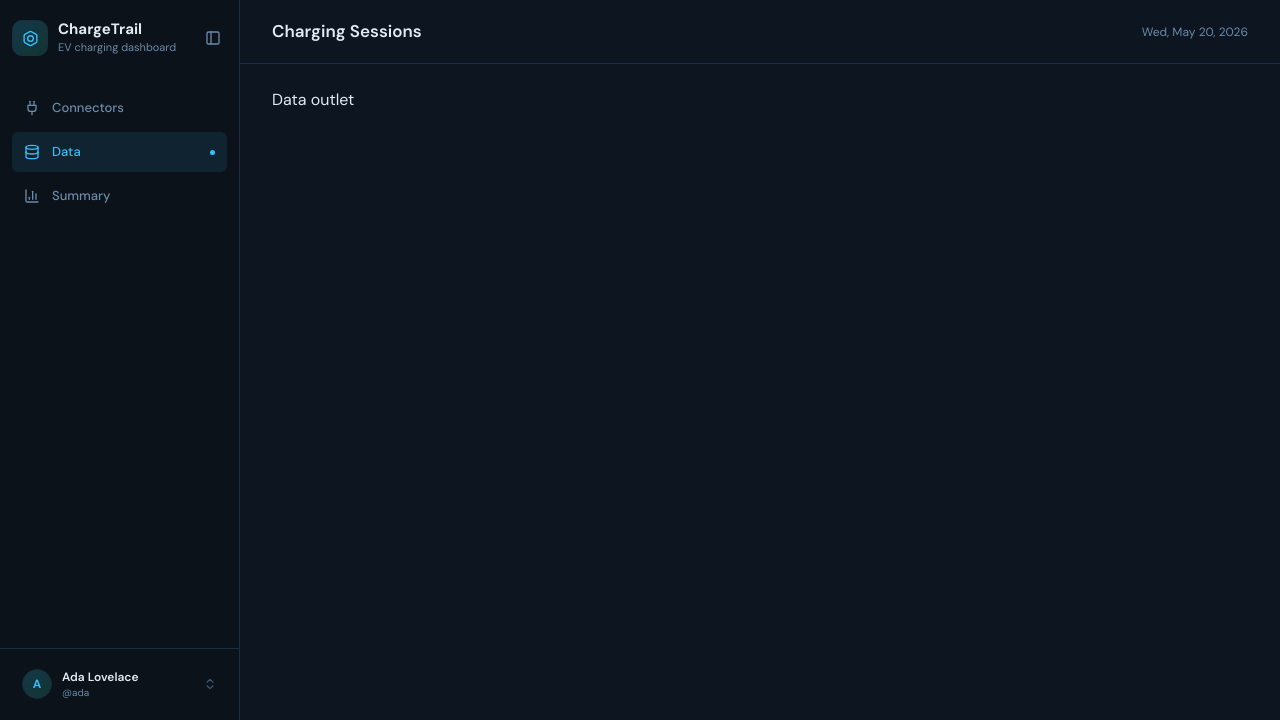
Test: AppShell › routes admin settings to its placeholder page
Click the button with aria-label "open account menu": (120, 684) [12,661,227,708]
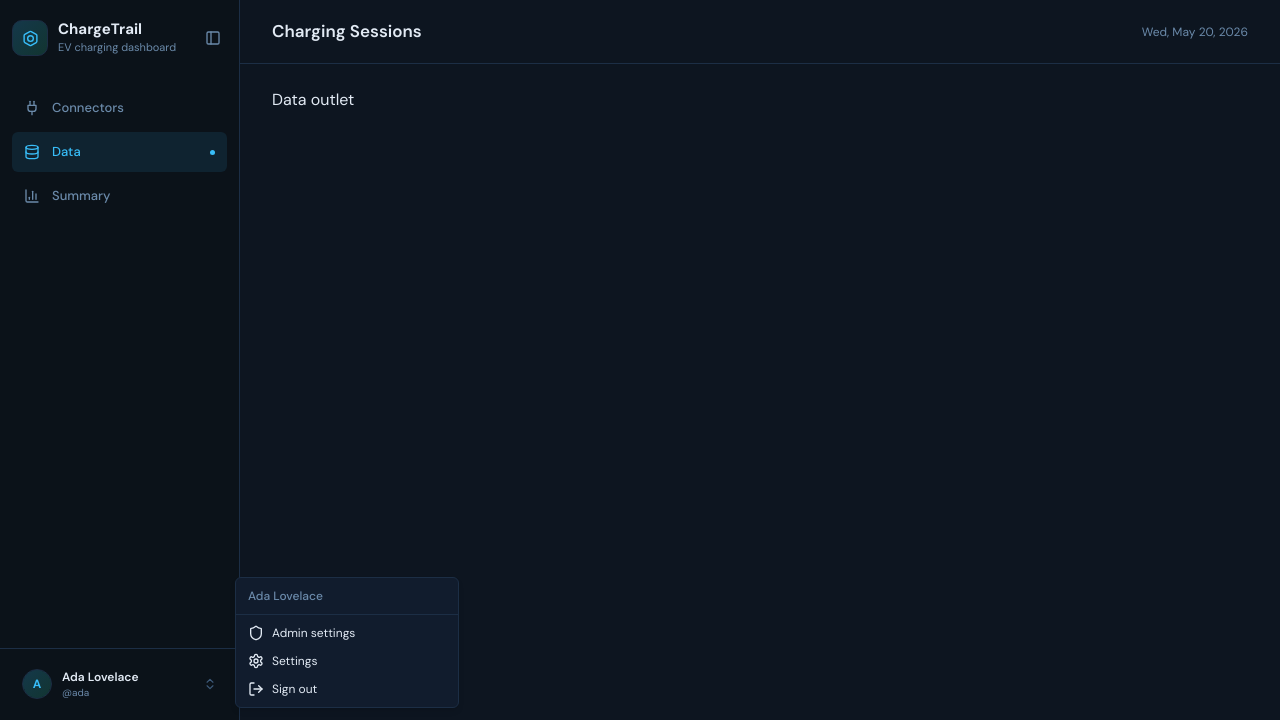
Click the menu item "Admin settings": (302, 633) [248,625,355,641]
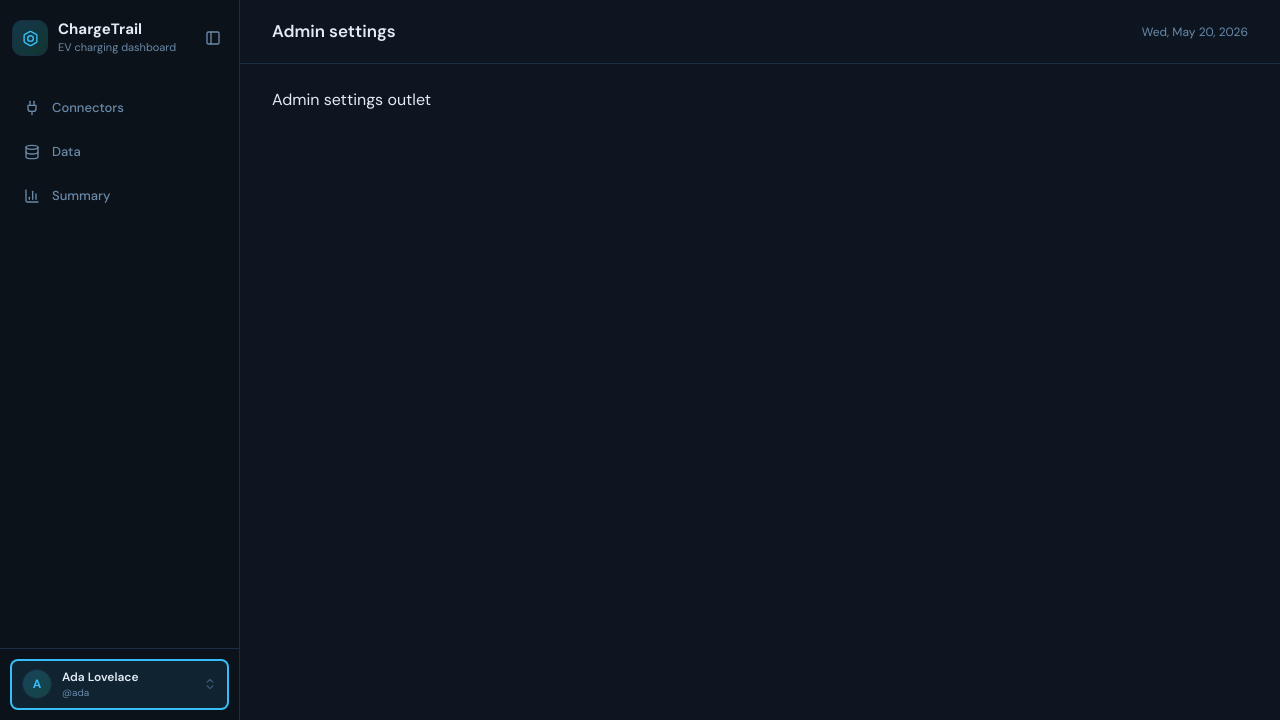
Result: the heading "Admin settings" is shown at [272,19,396,44]
Result: the text "Admin settings outlet" is shown at [272,89,431,110]
